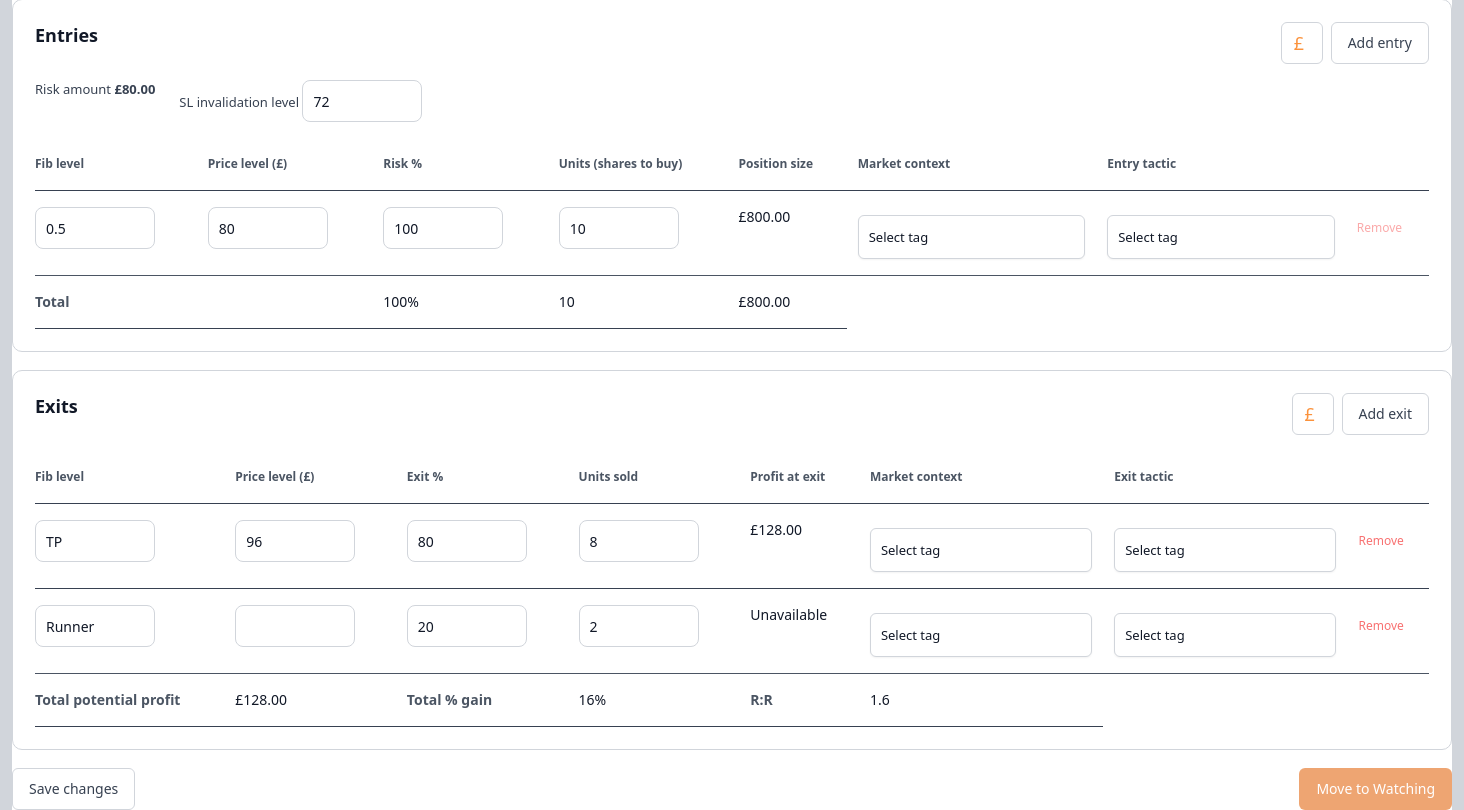
Scenario: clearing an exit override restores the calculated exit quantity
(page scrolled)
Replace the text in the number field named "exit 1 units" with "0" at coordinates (639, 541), box x1=579 y1=520 x2=699 y2=562
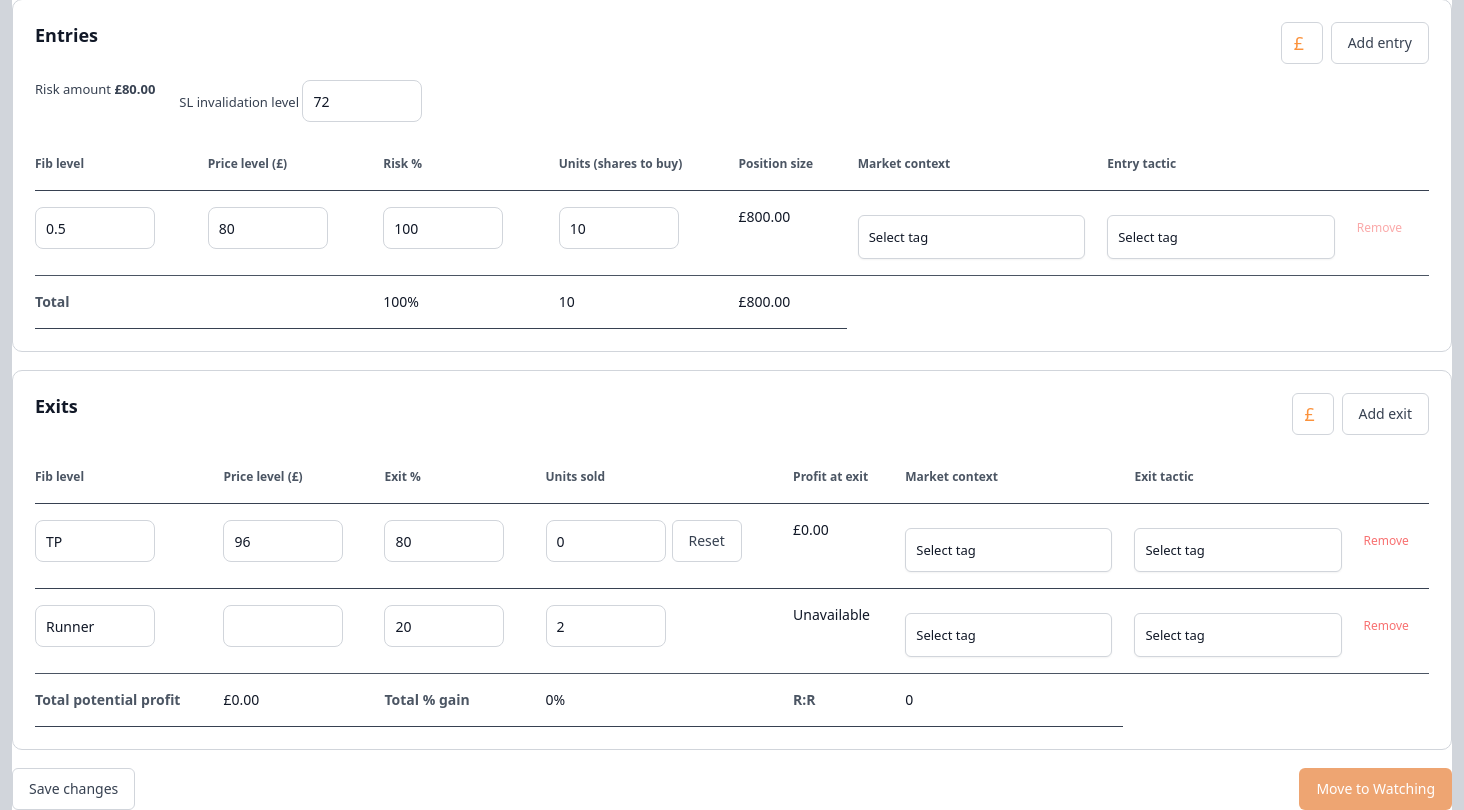
Result: the button with aria-label "Reset exit 1 units to calculated" is shown at x1=672 y1=520 x2=742 y2=562
Clear the number field named "exit 1 units" at coordinates (606, 541), box x1=546 y1=520 x2=666 y2=562
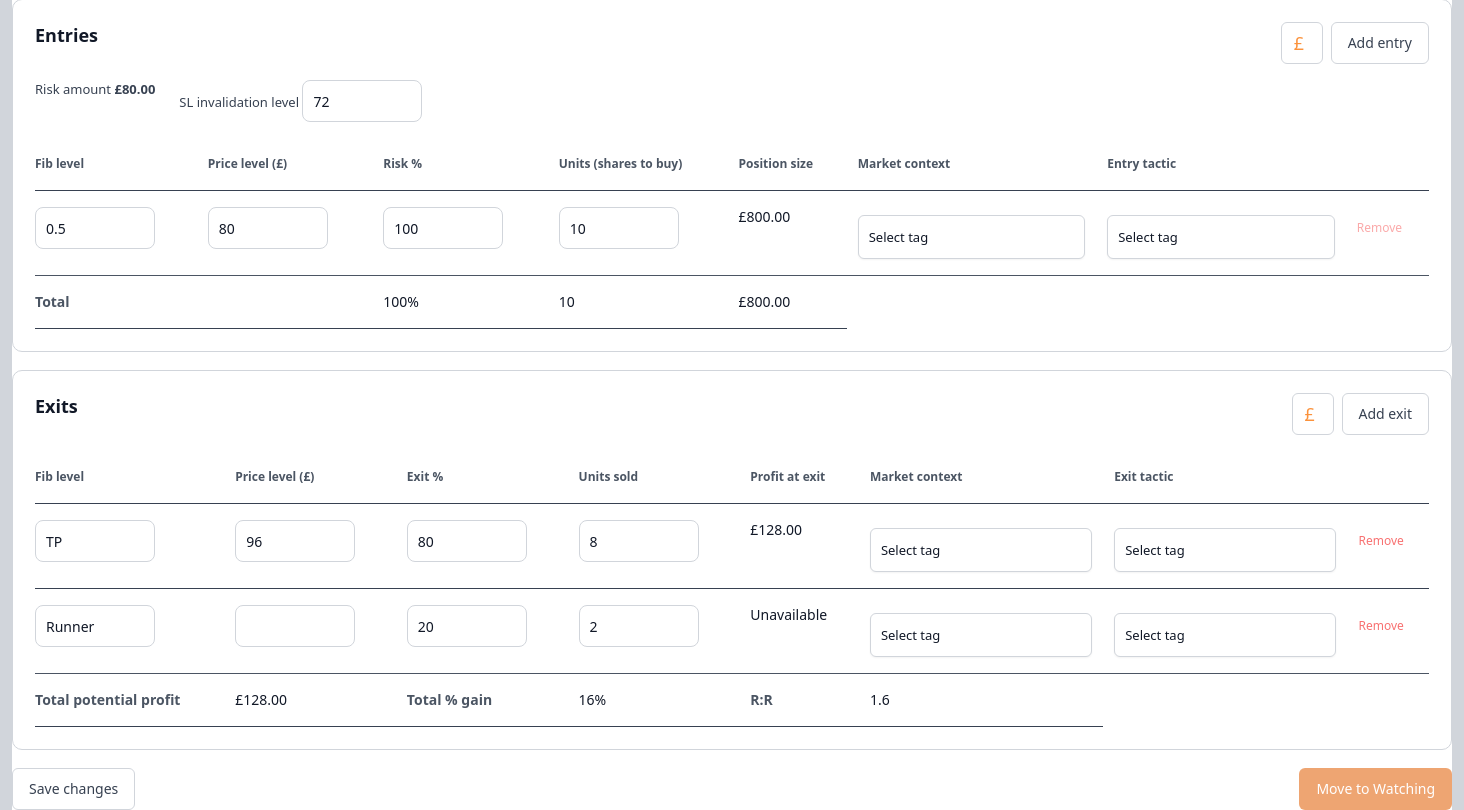
Result: the number field named "exit 1 units" holds "8" at x1=579 y1=520 x2=699 y2=562
